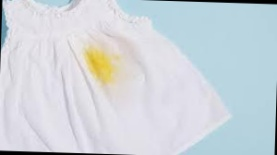mustard: (81, 43, 116, 87)
